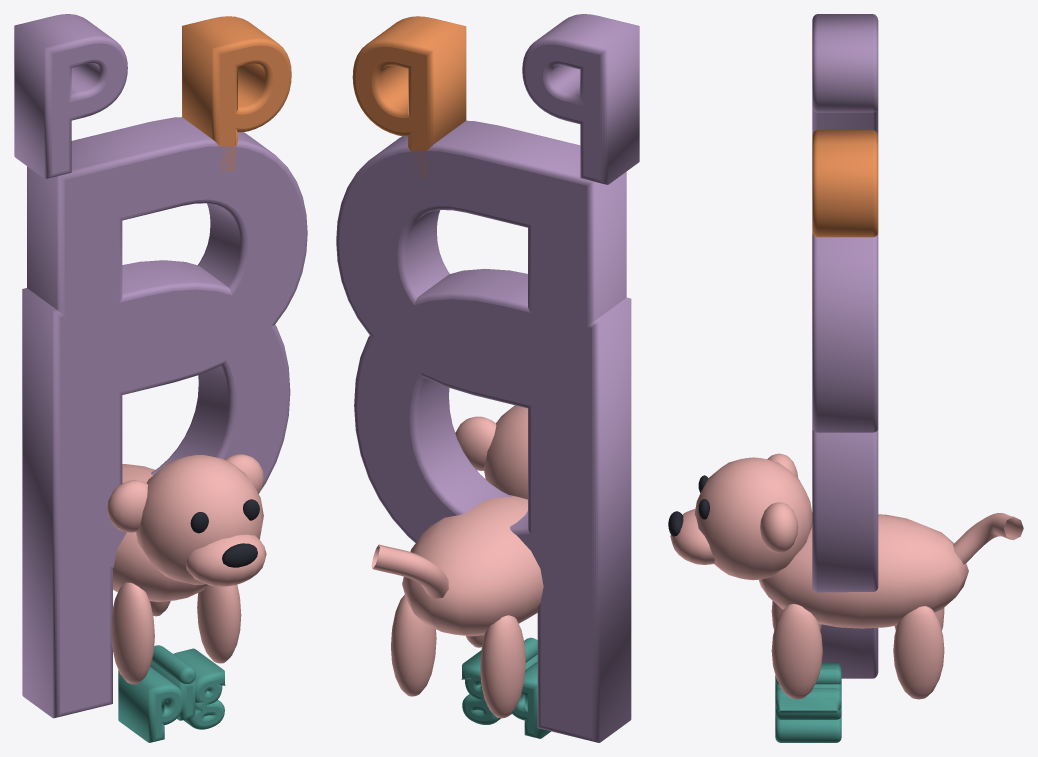
Rendered from letter-p.glb.
3 views of the same model, side by side, from view 1: azimuth 30°, elevation 25°; view 2: azimuth 150°, elevation 25°; view 3: azimuth 270°, elevation 25° (orthographic). The views are drawn at different scales.
Visible parts, largest first — view 1: letter solid.001, letter solid, uppercase solid, lowercase solid, animal head, example word, little paw, round animal body, little paw.002, muzzle, animal ear, animal ear.001 (+1 smaller); view 2: letter solid, letter solid.001, uppercase solid, round animal body, lowercase solid, little paw.001, little paw.003, animal head, example word, tail, animal ear.001; view 3: letter solid.001, letter solid, round animal body, animal head, uppercase solid, lowercase solid, example word, little paw.002, little paw.003, tail, animal ear.001, muzzle.
Part boxes in pixels (left/top/right/bottom): letter solid.001: left=22, top=260, right=290, bottom=718; letter solid: left=27, top=117, right=307, bottom=569; uppercase solid: left=14, top=14, right=127, bottom=178; lowercase solid: left=182, top=16, right=291, bottom=173; animal head: left=136, top=455, right=263, bottom=584; example word: left=118, top=645, right=225, bottom=742; little paw: left=111, top=582, right=154, bottom=684; round animal body: left=113, top=464, right=208, bottom=601; little paw.002: left=197, top=585, right=241, bottom=663; muzzle: left=186, top=534, right=266, bottom=586; animal ear: left=107, top=480, right=147, bottom=532; animal ear.001: left=225, top=454, right=264, bottom=493; letter solid: left=336, top=120, right=626, bottom=597; letter solid.001: left=354, top=269, right=631, bottom=742; uppercase solid: left=522, top=14, right=639, bottom=184; round animal body: left=402, top=495, right=543, bottom=636; lowercase solid: left=352, top=16, right=466, bottom=179; little paw.001: left=480, top=615, right=525, bottom=718; little paw.003: left=391, top=594, right=436, bottom=696; animal head: left=484, top=405, right=527, bottom=499; example word: left=461, top=637, right=550, bottom=738; tail: left=371, top=544, right=448, bottom=598; animal ear.001: left=455, top=416, right=496, bottom=470; letter solid.001: left=812, top=429, right=878, bottom=678; letter solid: left=812, top=234, right=878, bottom=432; round animal body: left=759, top=514, right=968, bottom=628; animal head: left=694, top=457, right=812, bottom=580; uppercase solid: left=812, top=14, right=878, bottom=135; lowercase solid: left=812, top=130, right=878, bottom=237; example word: left=775, top=663, right=841, bottom=742; little paw.002: left=771, top=604, right=822, bottom=699; little paw.003: left=893, top=606, right=944, bottom=699; tail: left=953, top=513, right=1023, bottom=564; animal ear.001: left=760, top=502, right=798, bottom=552; muzzle: left=670, top=508, right=714, bottom=564.
Size of the model in its own units: 0.7768 by 1.98 by 0.9667.
